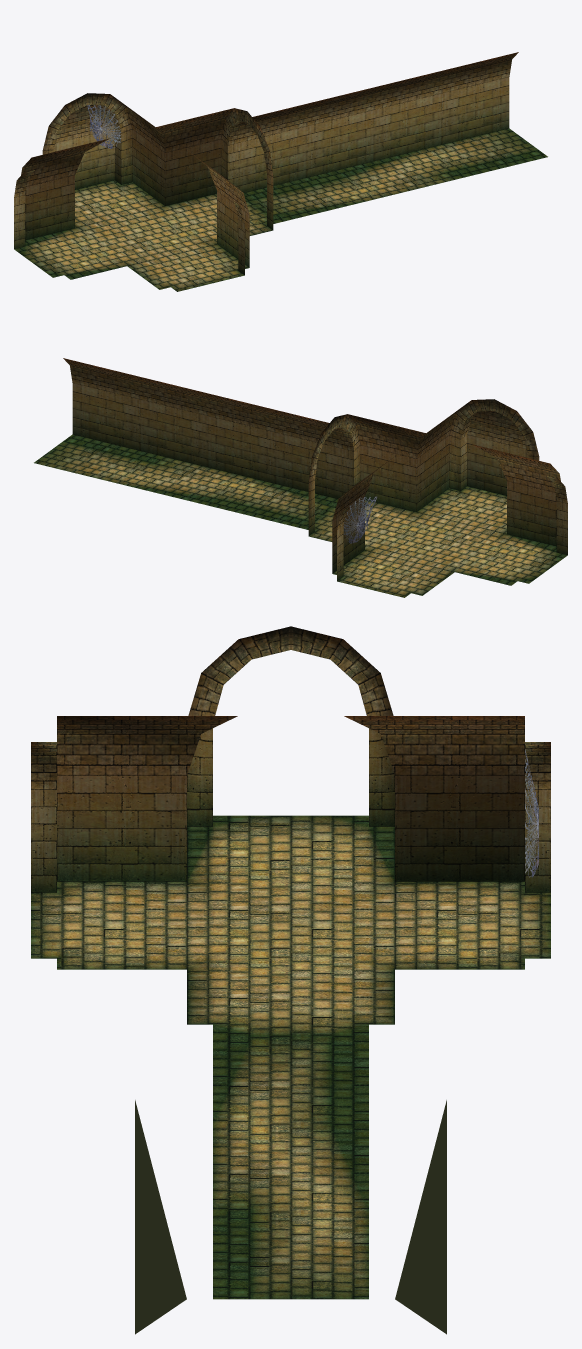
Rendered from Mission12_Catacomb02.glb.
3 views of the same model, one above another, from view 1: azimuth 30°, elevation 25°; view 2: azimuth 150°, elevation 25°; view 3: azimuth 270°, elevation 25° (orthographic). The views are drawn at different scales.
Parts seen in each view (by area): view 1: MISSION12_CATACOMB02; view 2: MISSION12_CATACOMB02; view 3: MISSION12_CATACOMB02.
Boxes of the visible parts, x1,y1,x2,y2 form: MISSION12_CATACOMB02: (14,52,547,291); MISSION12_CATACOMB02: (34,358,567,597); MISSION12_CATACOMB02: (31,626,550,1334).
Bounding box in the file's own units: 22 × 5 × 10.
4 materials, 4 textured.
